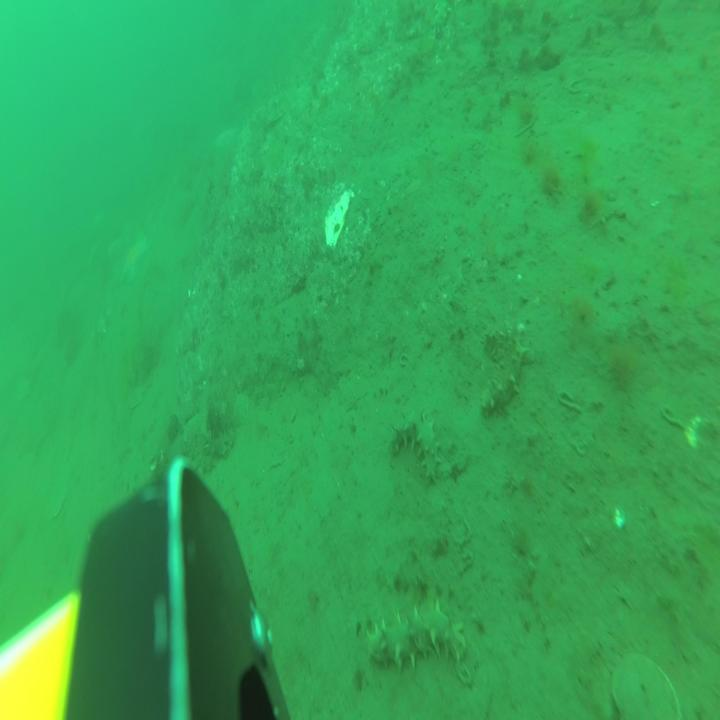holothurian: (368, 602, 468, 669), (482, 328, 528, 420), (392, 411, 442, 485)
scallop: (614, 648, 682, 720)
starfish: (122, 235, 147, 284)
